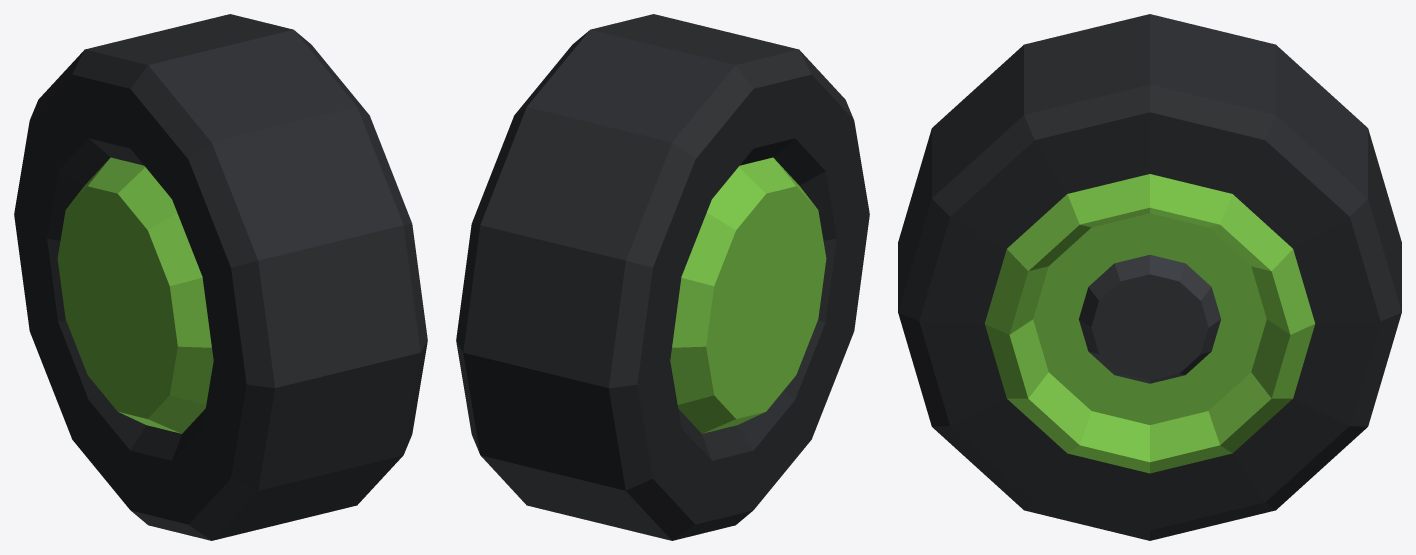
The model's file is SM_Veh_Kart_Wheel_R_04.fbx.
The picture shows the model from 3 angles, left to right: view 1: azimuth 30°, elevation 25°; view 2: azimuth 150°, elevation 25°; view 3: azimuth 270°, elevation 25°; orthographic projection.
Visible parts, largest first — view 1: SM_Veh_Kart_Wheel_R_04; view 2: SM_Veh_Kart_Wheel_R_04; view 3: SM_Veh_Kart_Wheel_R_04.
Boxes of the visible parts, <box> form: SM_Veh_Kart_Wheel_R_04: <box>14,14,427,540</box>; SM_Veh_Kart_Wheel_R_04: <box>456,14,869,540</box>; SM_Veh_Kart_Wheel_R_04: <box>898,14,1401,540</box>.
Size of the model in its own units: 18.7 by 37.04 by 37.04.
